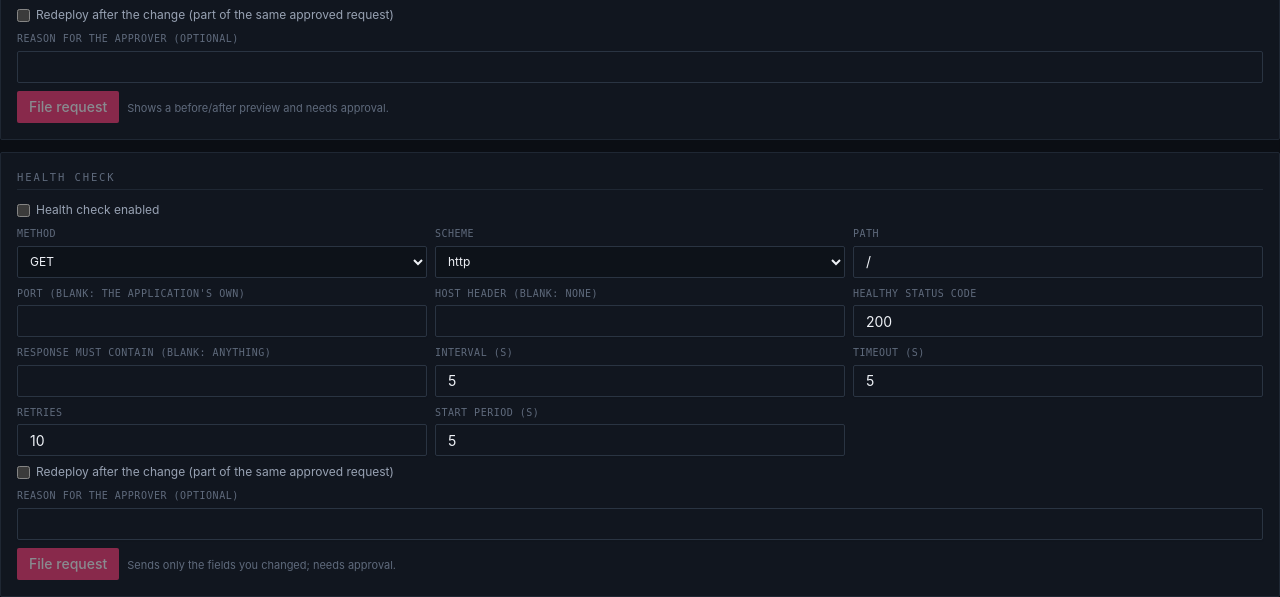
Test: settings tab › shows the API error when filing is refused
The width and height of the screenshot is (1280, 597).
(page scrolled)
Step 1. Replace the text in the field with test id "health-retries" with "3" → point(222, 440), box [17, 424, 427, 456]
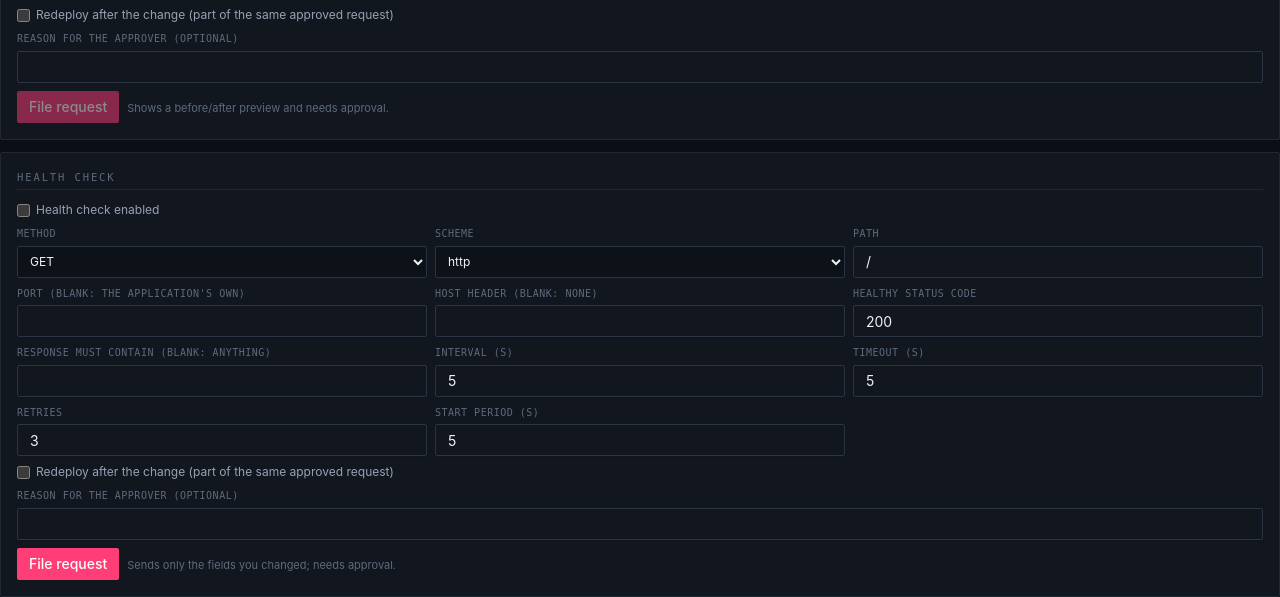
Step 2. Submit the form with test id "health-form"
(page scrolled)
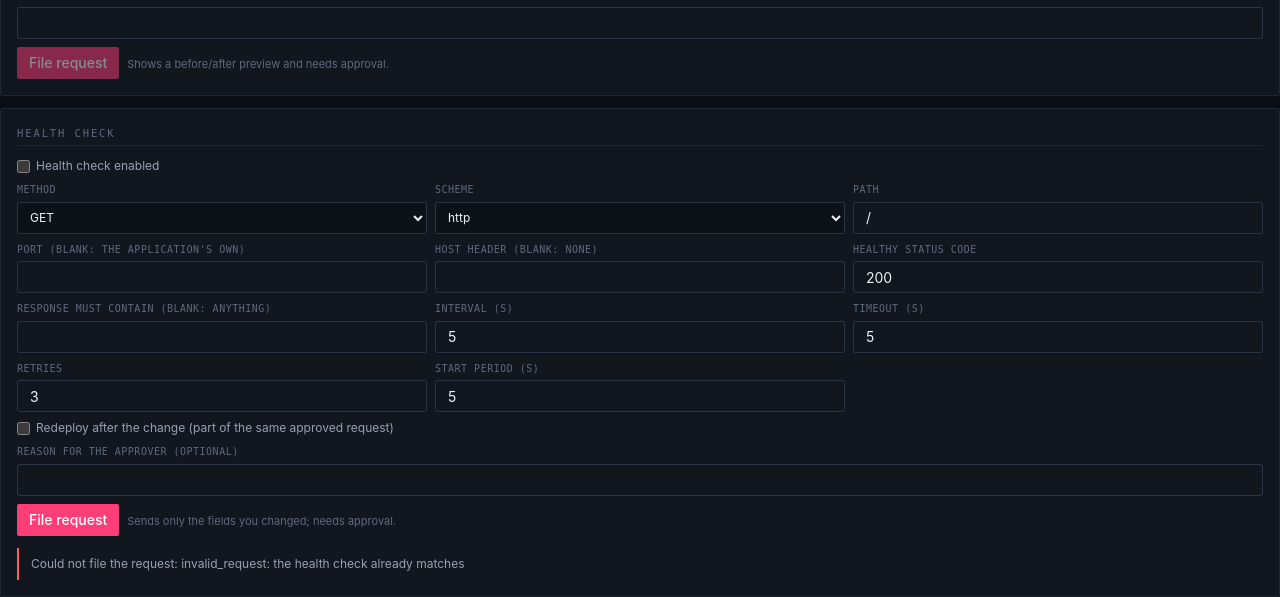
Now the message with test id "health-error" shows "already matches", box [31, 556, 464, 571]
